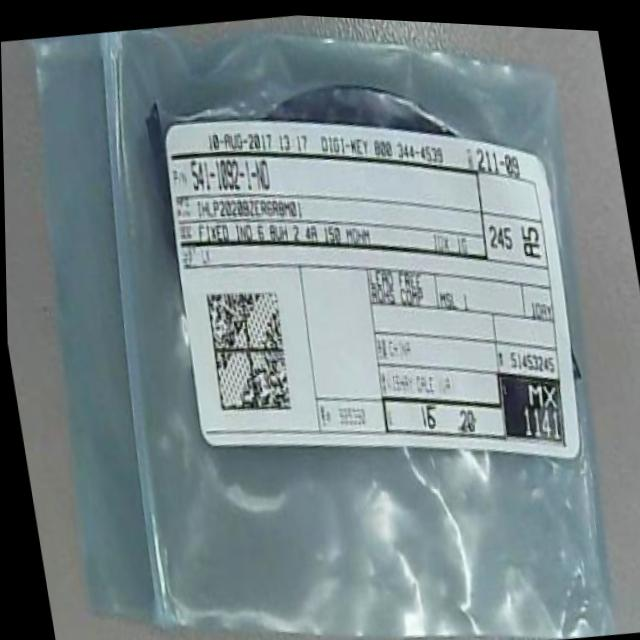datamatrix: (202, 276, 297, 416)
